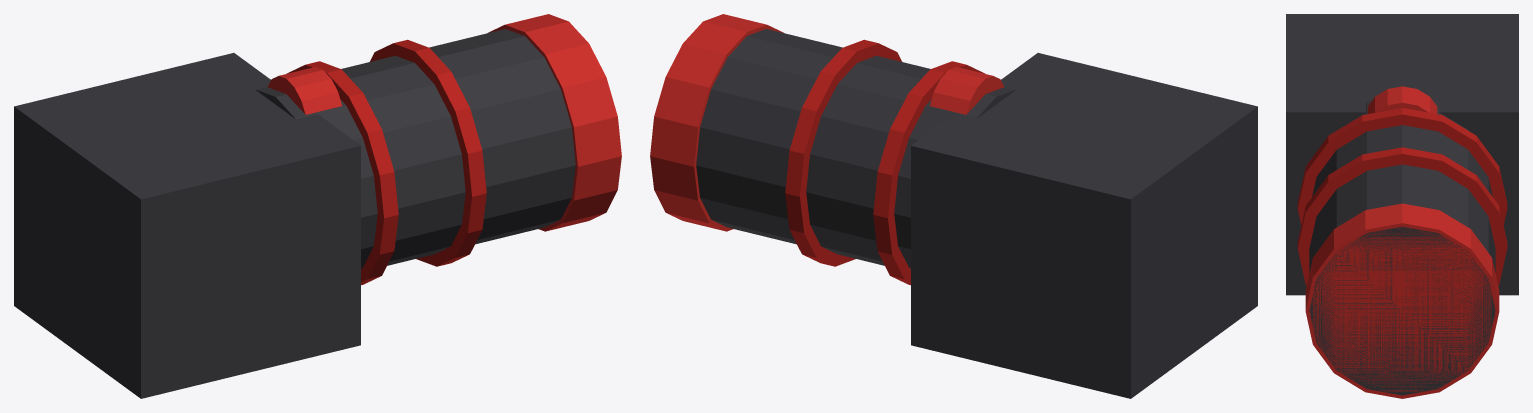
Rendered from cannon_turret.obj.
3 views of the same model, side by side, from view 1: azimuth 30°, elevation 25°; view 2: azimuth 150°, elevation 25°; view 3: azimuth 270°, elevation 25° (orthographic). The views are drawn at different scales.
Visible parts, largest first — view 1: CannonTurret; view 2: CannonTurret; view 3: CannonTurret.
Part boxes in pixels (x1=…): CannonTurret: x1=14, y1=14, x2=621, y2=398; CannonTurret: x1=650, y1=14, x2=1257, y2=398; CannonTurret: x1=1286, y1=14, x2=1518, y2=398.
Size of the model in its own units: 0.67 by 0.29 by 0.3.
